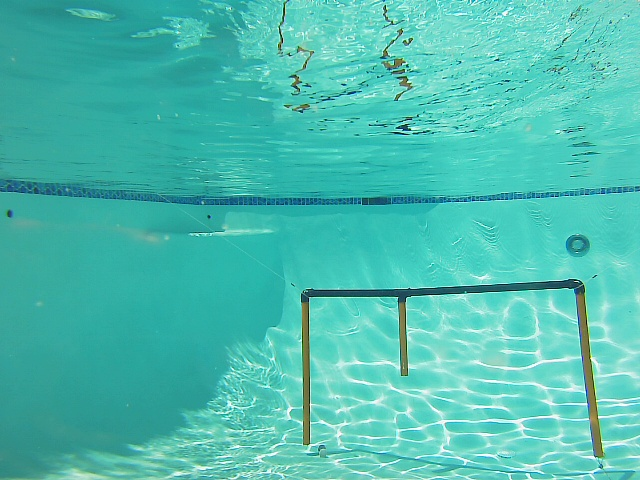Gate: (575, 292, 605, 460), (302, 300, 311, 448), (397, 297, 407, 378)
